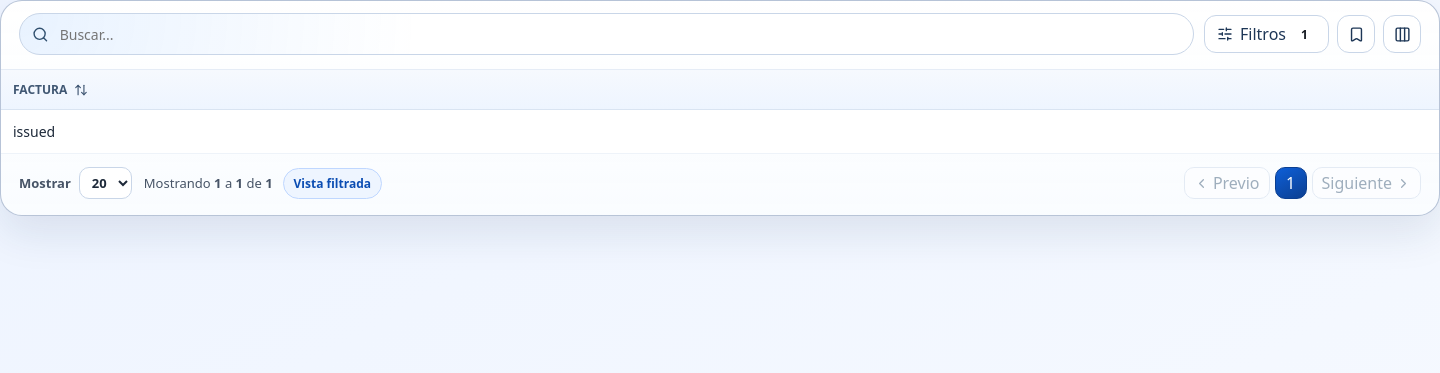
Test: mantiene el filtro de comprobante sin mostrar su columna en una vista guardada
The image size is (1440, 373).
What coordinates should you click on to do the following:
click the button with class "dt-filter-trigger"
I would click on:
 (1266, 34)
Its box is [1204, 15, 1329, 53].
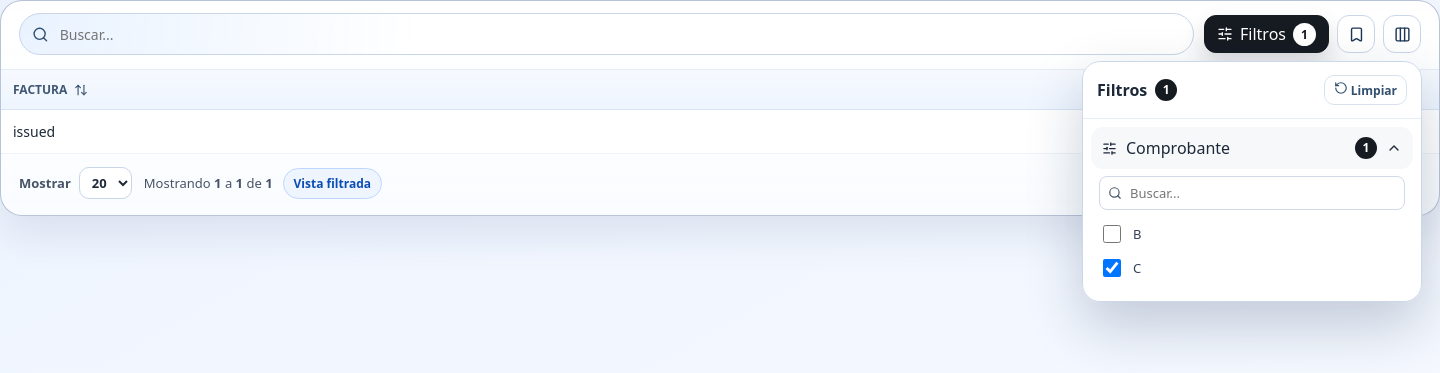
Check: the element with class "dt-filter-panel" shows "Comprobante", box [1091, 127, 1413, 169]
